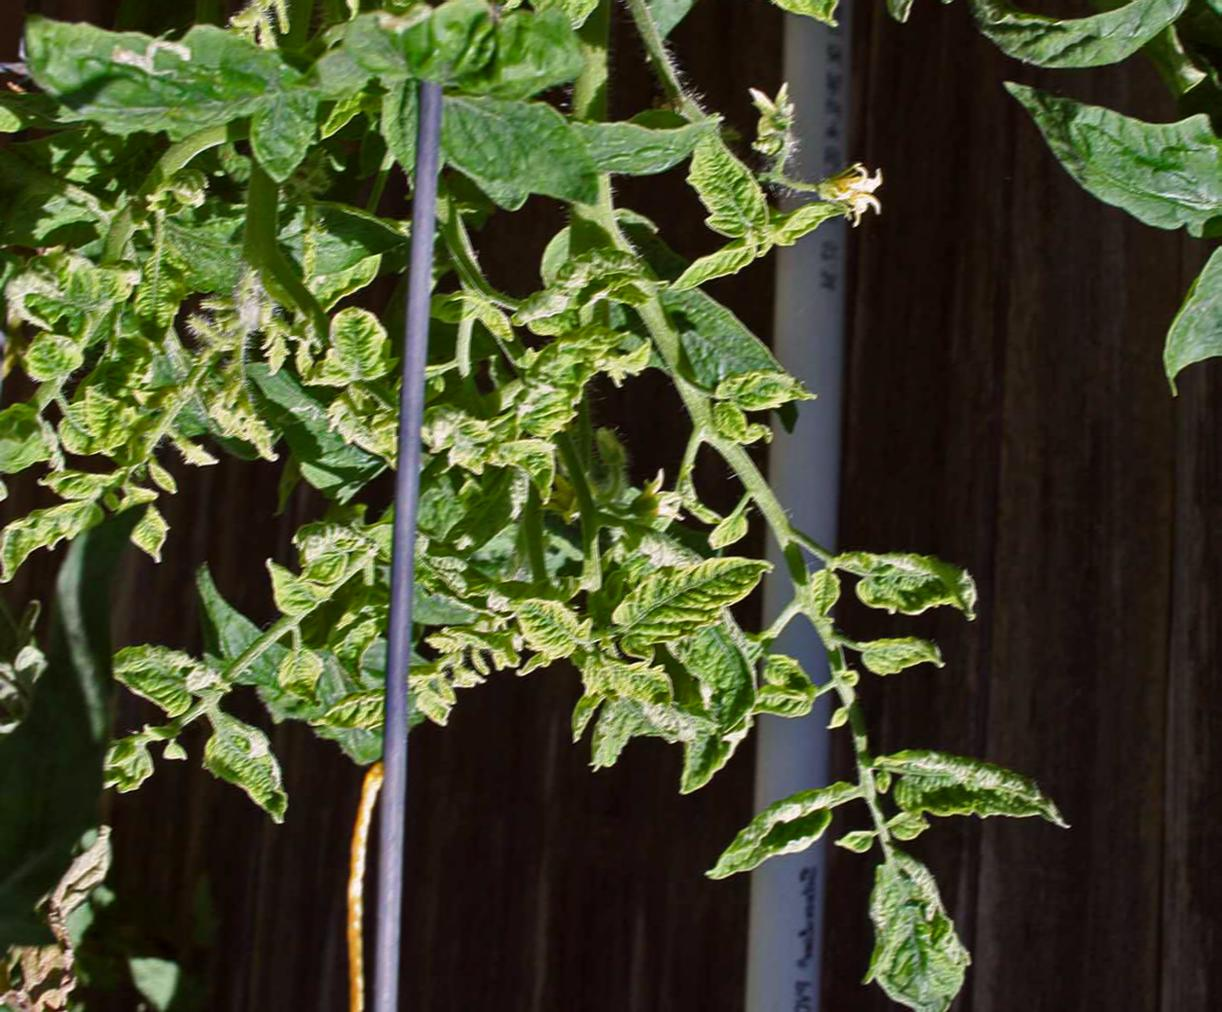Tomato leaf yellow virus: (0, 4, 330, 170), (384, 74, 618, 218), (467, 326, 624, 497), (863, 729, 1096, 839), (817, 528, 1015, 627), (594, 543, 769, 652), (854, 852, 968, 1011), (667, 127, 798, 259), (0, 483, 111, 603), (203, 709, 301, 829), (12, 250, 148, 333), (708, 362, 840, 440), (497, 580, 606, 671), (572, 645, 690, 723), (309, 295, 398, 392), (54, 387, 157, 465), (108, 634, 206, 714), (850, 627, 963, 687), (21, 321, 98, 382)
